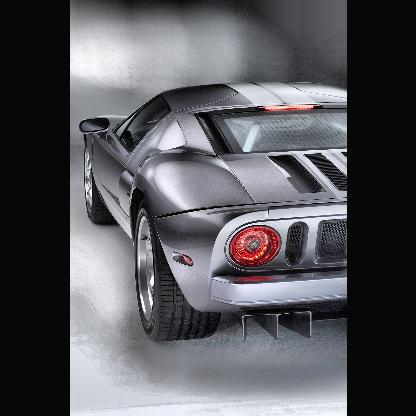Ford GT Coupe 2006: (81, 82, 346, 347)
